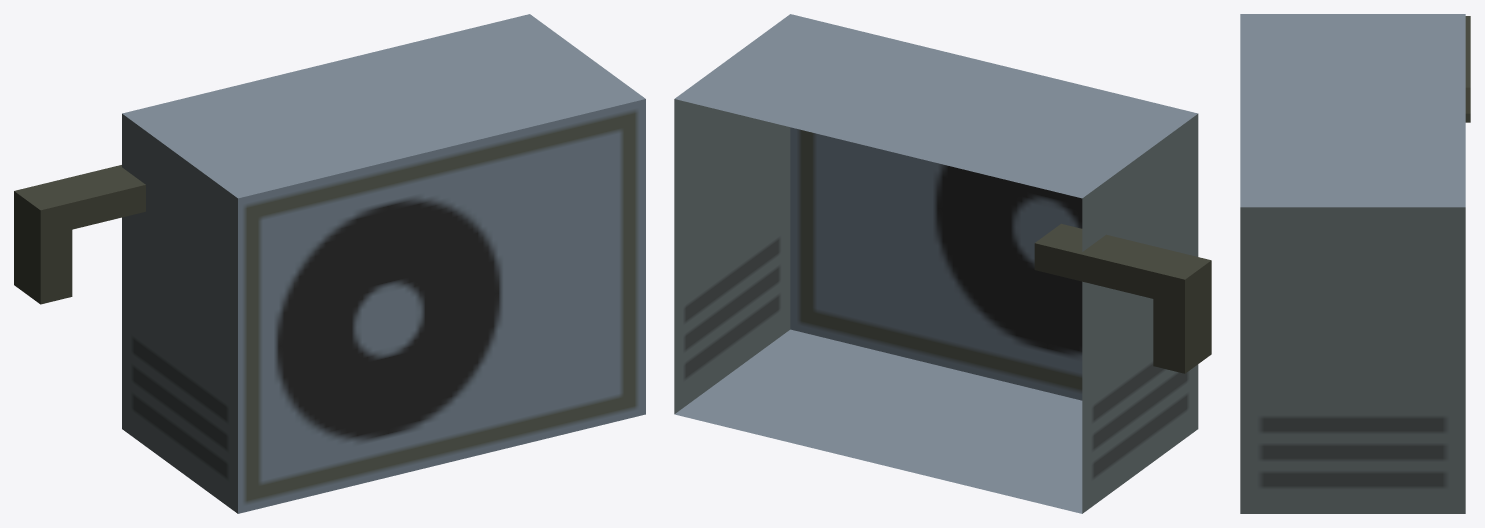
The model's file is SM_AirConditioner_Wall_01.fbx.
The picture shows the model from 3 angles, left to right: view 1: azimuth 30°, elevation 25°; view 2: azimuth 150°, elevation 25°; view 3: azimuth 270°, elevation 25°; orthographic projection. The views are drawn at different scales.
Visible parts, largest first — view 1: SM_AirConditioner_Wall_01; view 2: SM_AirConditioner_Wall_01; view 3: SM_AirConditioner_Wall_01.
Part boxes in pixels (x1,y1,x2,y2): SM_AirConditioner_Wall_01: [14, 14, 645, 513]; SM_AirConditioner_Wall_01: [674, 14, 1211, 513]; SM_AirConditioner_Wall_01: [1240, 14, 1470, 513].
Size of the model in its own units: 1.22 by 0.719 by 0.4901.
